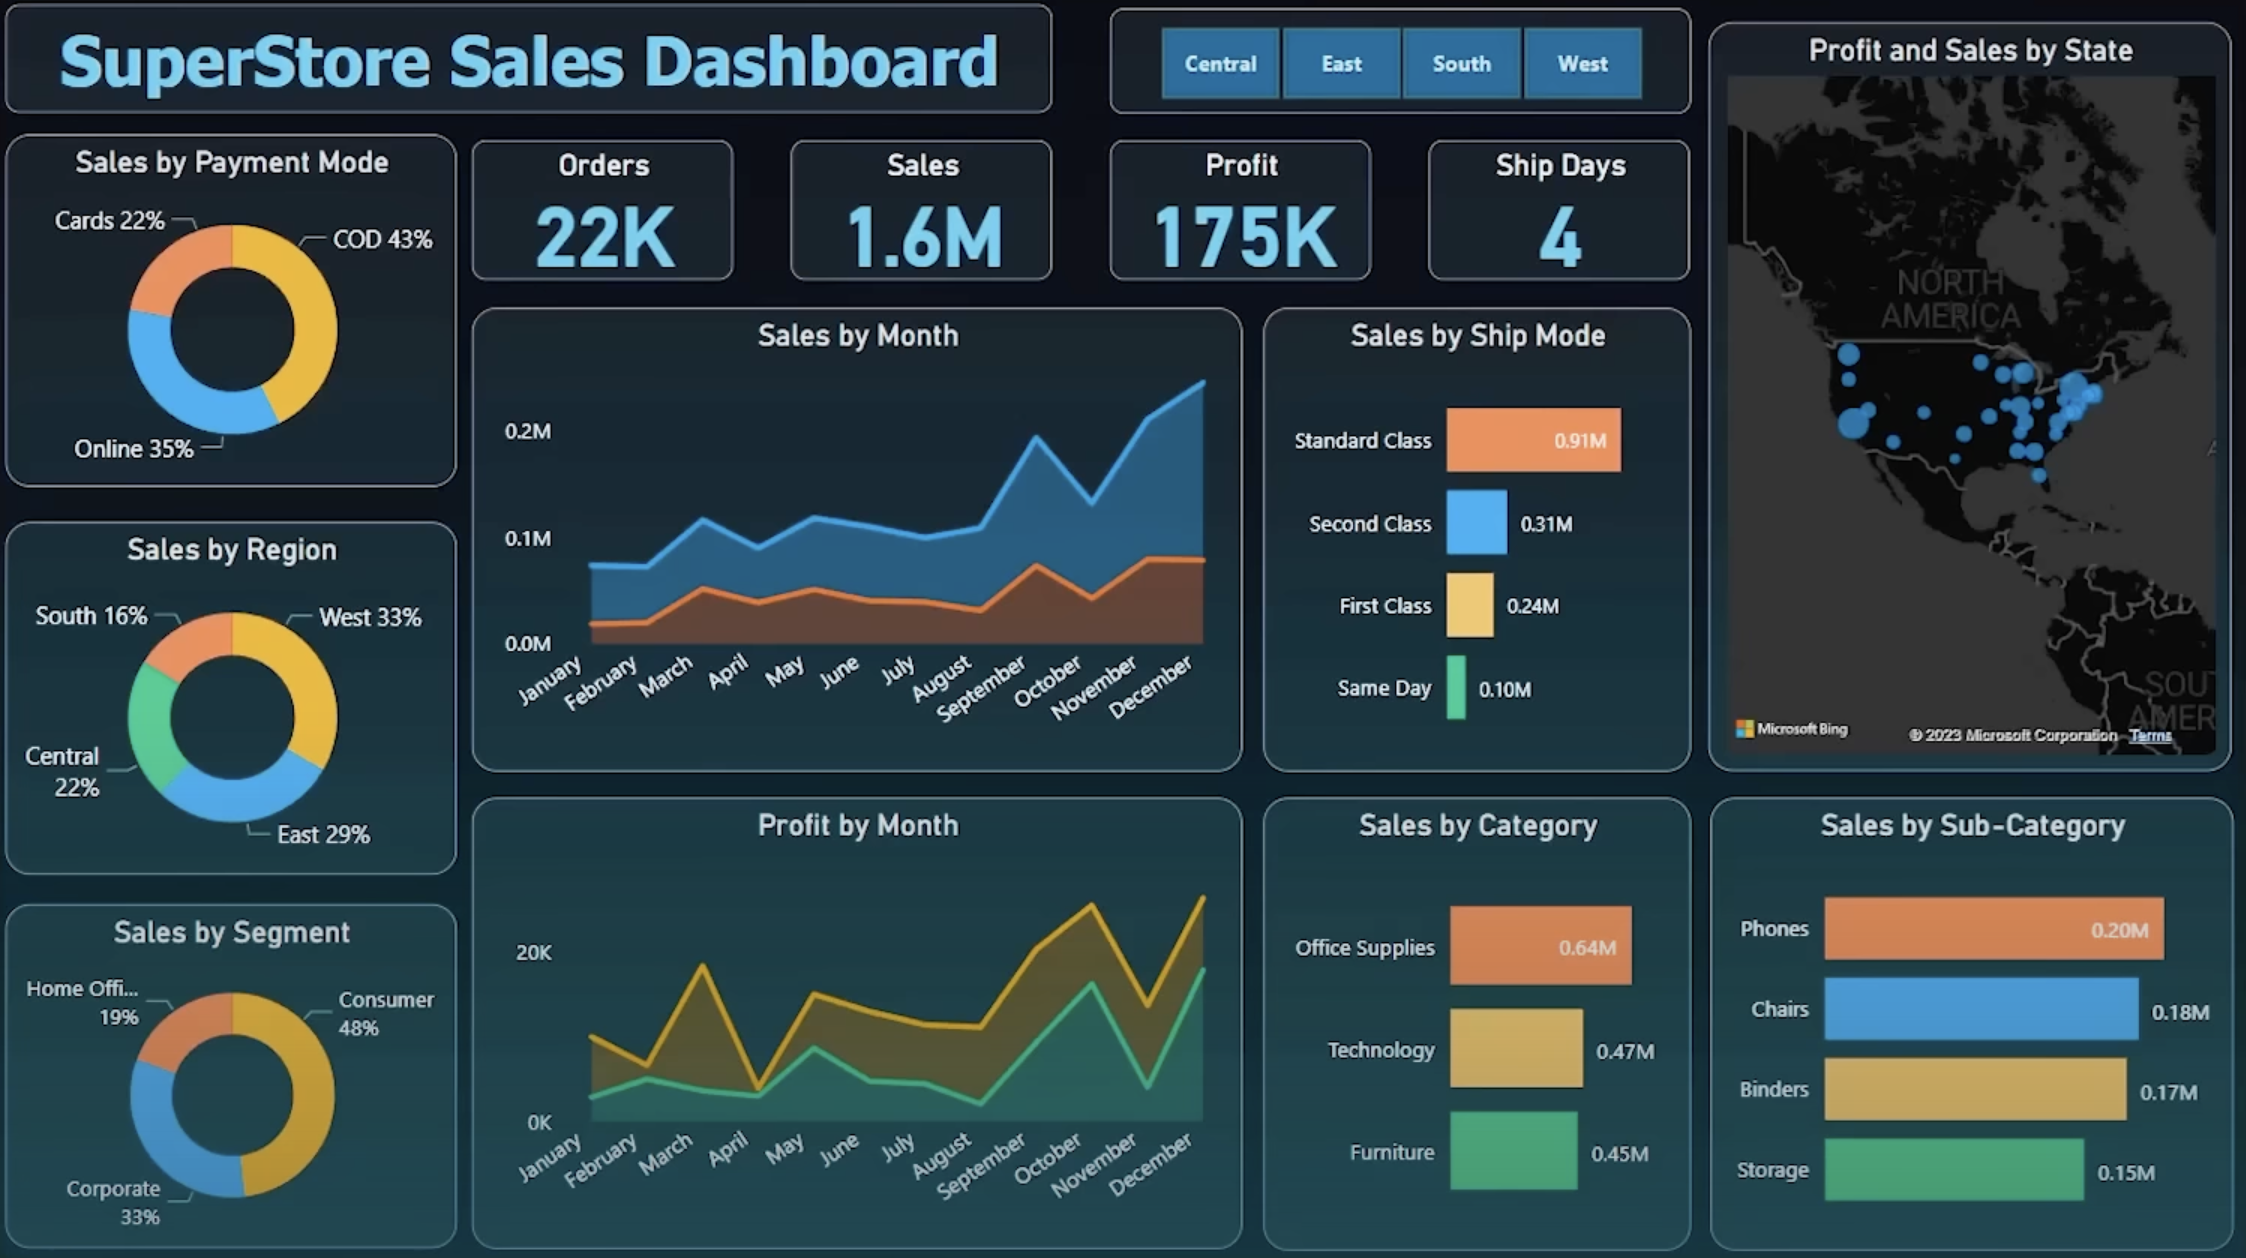

Layout of this report page (visuals, bound fields, positions):
{"tool":"powerbi","page":{"name":"Page 1","canvas":[1280,720],"ordinal":0},"visuals":[{"type":"clusteredBarChart","title":"Sales by Category","fields":{"Category":["SuperStore_Sales_Dataset.Category"],"Y":["Sum(SuperStore_Sales_Dataset.Sales)"]},"box":[741.1,451.5,246.6,249.1],"z":0},{"type":"clusteredBarChart","title":"Sales by Sub-Category","fields":{"Category":["SuperStore_Sales_Dataset.Sub-Category"],"Y":["Sum(SuperStore_Sales_Dataset.Sales)"]},"box":[1020.9,434.4,218.4,266.3],"z":1},{"type":"clusteredBarChart","title":"Sales by Ship Mode","fields":{"Category":["SuperStore_Sales_Dataset.Ship Mode"],"Y":["Sum(SuperStore_Sales_Dataset.Sales)"]},"box":[749.7,209.8,230.7,224.5],"z":2},{"type":"stackedAreaChart","title":"Sales by Month","fields":{"Category":["SuperStore_Sales_Dataset.Order Date.Variation.Date Hierarchy.Month"],"Y":["Sum(SuperStore_Sales_Dataset.Sales)"],"Series":["SuperStore_Sales_Dataset.Order Date.Variation.Date Hierarchy.Year"]},"box":[262.6,489.6,454,211],"z":3},{"type":"stackedAreaChart","title":"Profit by Month","fields":{"Category":["SuperStore_Sales_Dataset.Order Date.Variation.Date Hierarchy.Month"],"Series":["SuperStore_Sales_Dataset.Order Date.Variation.Date Hierarchy.Year"],"Y":["Sum(SuperStore_Sales_Dataset.Profit)"]},"box":[262.6,225.8,454,247.9],"z":4},{"type":"map","title":"Profit and Sales by State","fields":{"Size":["Sum(SuperStore_Sales_Dataset.Sales)"],"Category":["SuperStore_Sales_Dataset.State"]},"box":[996.3,127.6,266.3,294.5],"z":5},{"type":"donutChart","title":"Sales by Segment","fields":{"Category":["SuperStore_Sales_Dataset.Segment"],"Y":["Sum(SuperStore_Sales_Dataset.Sales)"]},"box":[19.6,474.8,208.6,203.7],"z":6},{"type":"donutChart","title":"Sales by Payment Mode","fields":{"Category":["SuperStore_Sales_Dataset.Payment Mode"],"Y":["Sum(SuperStore_Sales_Dataset.Sales)"]},"box":[19.6,249.1,208.6,203.7],"z":7},{"type":"slicer","fields":{"Values":["SuperStore_Sales_Dataset.Region"]},"box":[638,16,624.5,90.8],"z":8},{"type":"textbox","box":[74.8,16,539.9,78.5],"z":9},{"type":"card","title":"Sales","fields":{"Values":["Sum(SuperStore_Sales_Dataset.Sales)"]},"box":[74.8,114.1,164.4,84.7],"z":10},{"type":"card","title":"Orders","fields":{"Values":["Sum(SuperStore_Sales_Dataset.Quantity)"]},"box":[273.6,114.1,164.4,83.4],"z":11},{"type":"card","title":"Profit","fields":{"Values":["Sum(SuperStore_Sales_Dataset.Profit)"]},"box":[477.3,114.1,163.2,83.4],"z":12},{"type":"card","title":"Ship Days","fields":{"Values":["Avg(SuperStore_Sales_Dataset.AvgDelivery)"]},"box":[678.5,114.1,164.4,83.4],"z":13}]}

Visuals, with their boxes in screenshot pixels (x1, y1, x2, y2), scaled from the page's 1280x720 canvas onto the 2246x1258 screenshot:
"Sales by Category" clusteredBarChart: BBox(1300, 789, 1733, 1224)
"Sales by Sub-Category" clusteredBarChart: BBox(1791, 759, 2175, 1224)
"Sales by Ship Mode" clusteredBarChart: BBox(1315, 367, 1720, 759)
"Sales by Month" stackedAreaChart: BBox(461, 855, 1257, 1224)
"Profit by Month" stackedAreaChart: BBox(461, 395, 1257, 828)
"Profit and Sales by State" map: BBox(1748, 223, 2215, 738)
"Sales by Segment" donutChart: BBox(34, 830, 400, 1185)
"Sales by Payment Mode" donutChart: BBox(34, 435, 400, 791)
slicer - SuperStore_Sales_Dataset.Region: BBox(1119, 28, 2215, 187)
textbox: BBox(131, 28, 1079, 165)
"Sales" card: BBox(131, 199, 420, 347)
"Orders" card: BBox(480, 199, 769, 345)
"Profit" card: BBox(838, 199, 1124, 345)
"Ship Days" card: BBox(1191, 199, 1479, 345)
